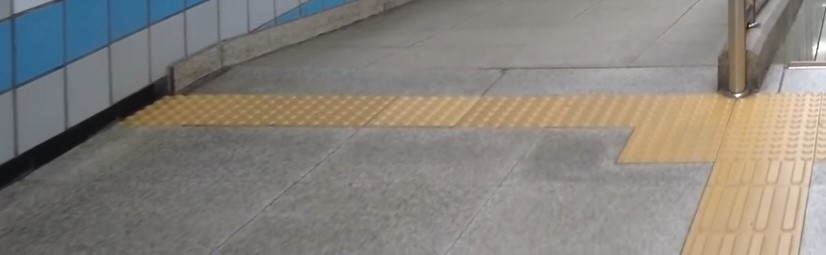guideBlock: (704, 184, 786, 231), (721, 162, 804, 187)
warningBlock: (473, 87, 558, 134), (382, 87, 466, 133), (732, 118, 820, 161), (640, 121, 731, 157), (564, 84, 645, 124), (286, 91, 374, 123), (743, 93, 821, 129), (211, 92, 284, 127), (647, 96, 736, 123), (154, 91, 211, 117)
